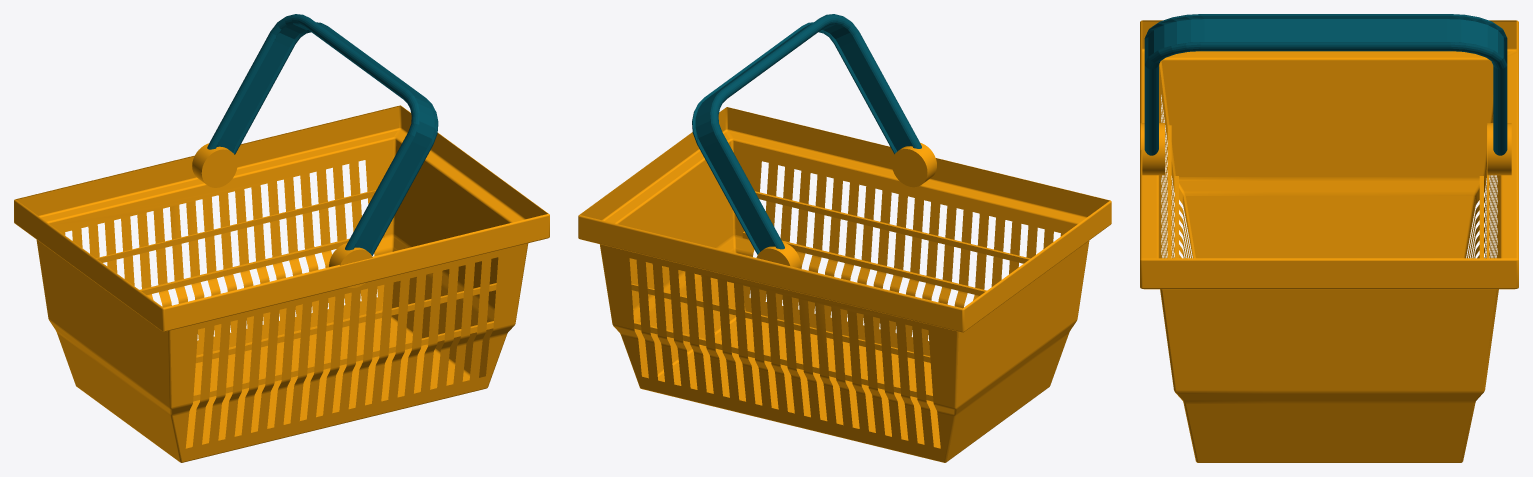
File: Cart.fbx
3 renders of one model, left to right at view 1: azimuth 30°, elevation 25°; view 2: azimuth 150°, elevation 25°; view 3: azimuth 270°, elevation 25°, orthographic. The views are drawn at different scales.
Visible parts, largest first — view 1: cesta_2, cesta_pao_3, Cylinder_1_3, Cylinder_3; view 2: cesta_2, cesta_pao_3, Cylinder_3, Cylinder_1_3; view 3: cesta_2, cesta_pao_3, Cylinder_1_3, Cylinder_3.
Part boxes in pixels (x1,y1,x2,y2): cesta_2: [14, 105, 549, 462]; cesta_pao_3: [207, 14, 438, 255]; Cylinder_1_3: [192, 143, 237, 187]; Cylinder_3: [329, 243, 372, 287]; cesta_2: [578, 107, 1111, 462]; cesta_pao_3: [692, 14, 921, 254]; Cylinder_3: [891, 142, 936, 187]; Cylinder_1_3: [756, 242, 800, 268]; cesta_2: [1140, 20, 1518, 462]; cesta_pao_3: [1144, 14, 1507, 155]; Cylinder_1_3: [1487, 123, 1511, 175]; Cylinder_3: [1140, 123, 1164, 175].
Bounding box in the file's own units: 633 × 493 × 423.
